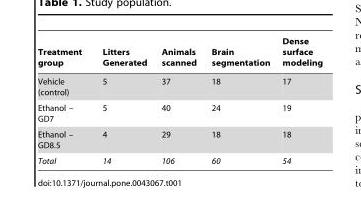table: (36, 36, 321, 165)
table column: (203, 36, 275, 165), (91, 36, 153, 165), (36, 36, 91, 165), (153, 36, 203, 165), (275, 36, 321, 165)
table column header: (36, 36, 321, 71)
table row: (36, 36, 321, 71), (36, 71, 321, 99), (36, 99, 321, 126), (36, 126, 321, 152), (36, 152, 321, 165)
